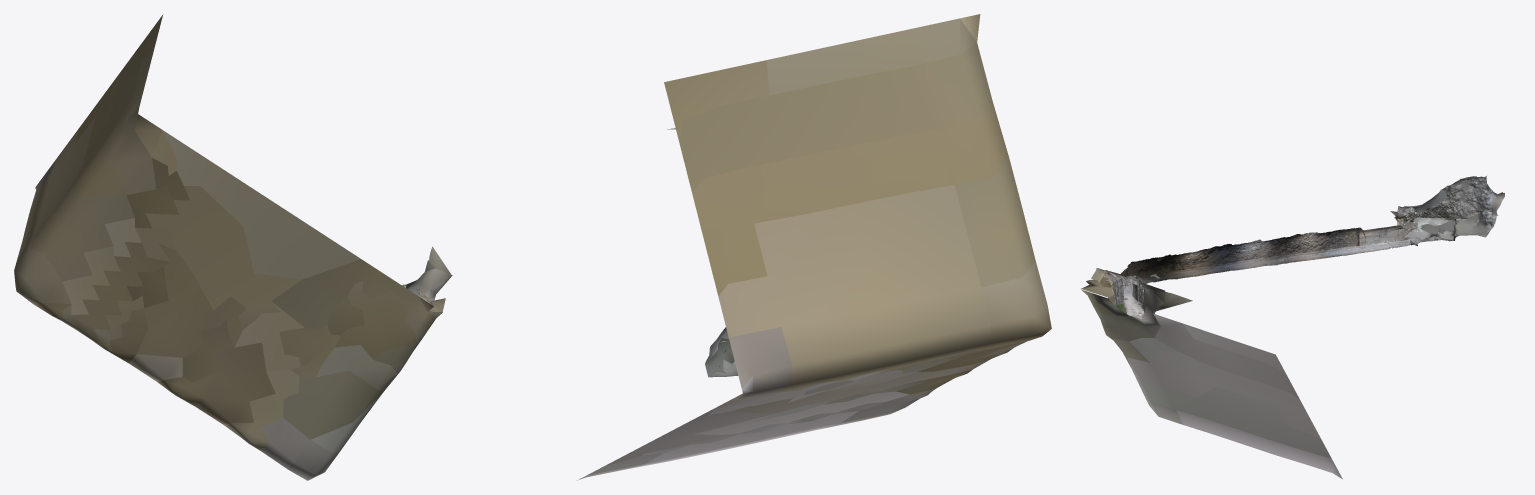
3 views of the same model, side by side, from view 1: azimuth 30°, elevation 25°; view 2: azimuth 150°, elevation 25°; view 3: azimuth 270°, elevation 25° (orthographic). The views are drawn at different scales.
Visible parts, largest first — view 1: Mesh_0_Part_0; view 2: Mesh_0_Part_0; view 3: Mesh_0_Part_0.
Part boxes in pixels (x1,y1,x2,y2): Mesh_0_Part_0: (14,15,452,480); Mesh_0_Part_0: (577,14,1051,480); Mesh_0_Part_0: (1081,176,1504,479).
Bounding box in the file's own units: 1.27 × 1.04 × 1.18.
1 material, 1 textured.
